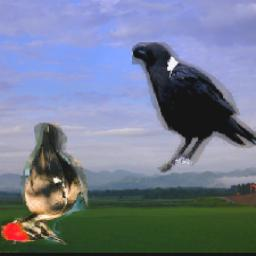Crow: (132, 43, 256, 173)
Woodpecker: (0, 124, 90, 245)
